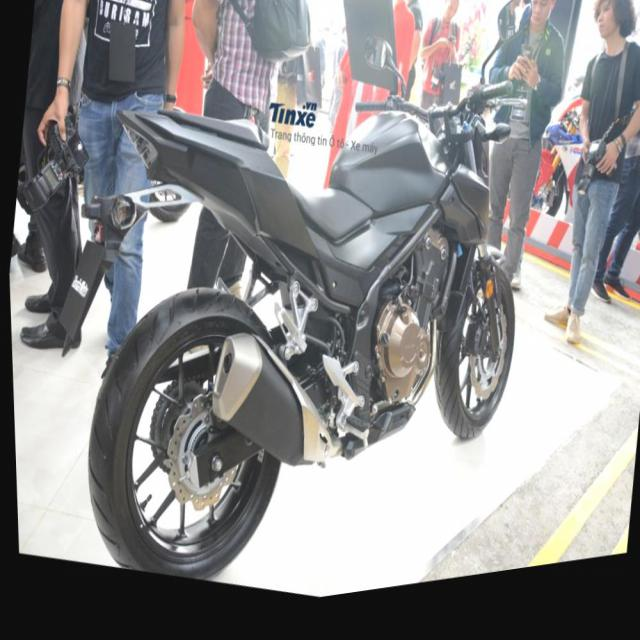CB500F: (57, 0, 554, 633)
